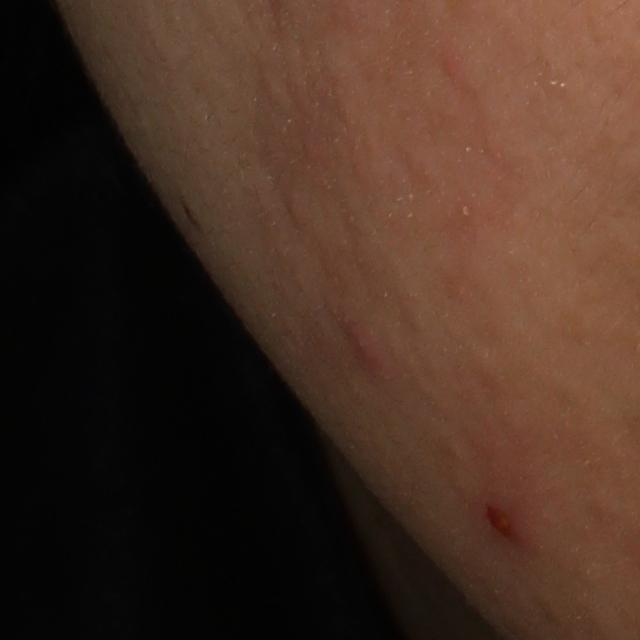papule: (481, 491, 546, 562), (338, 311, 388, 376)
